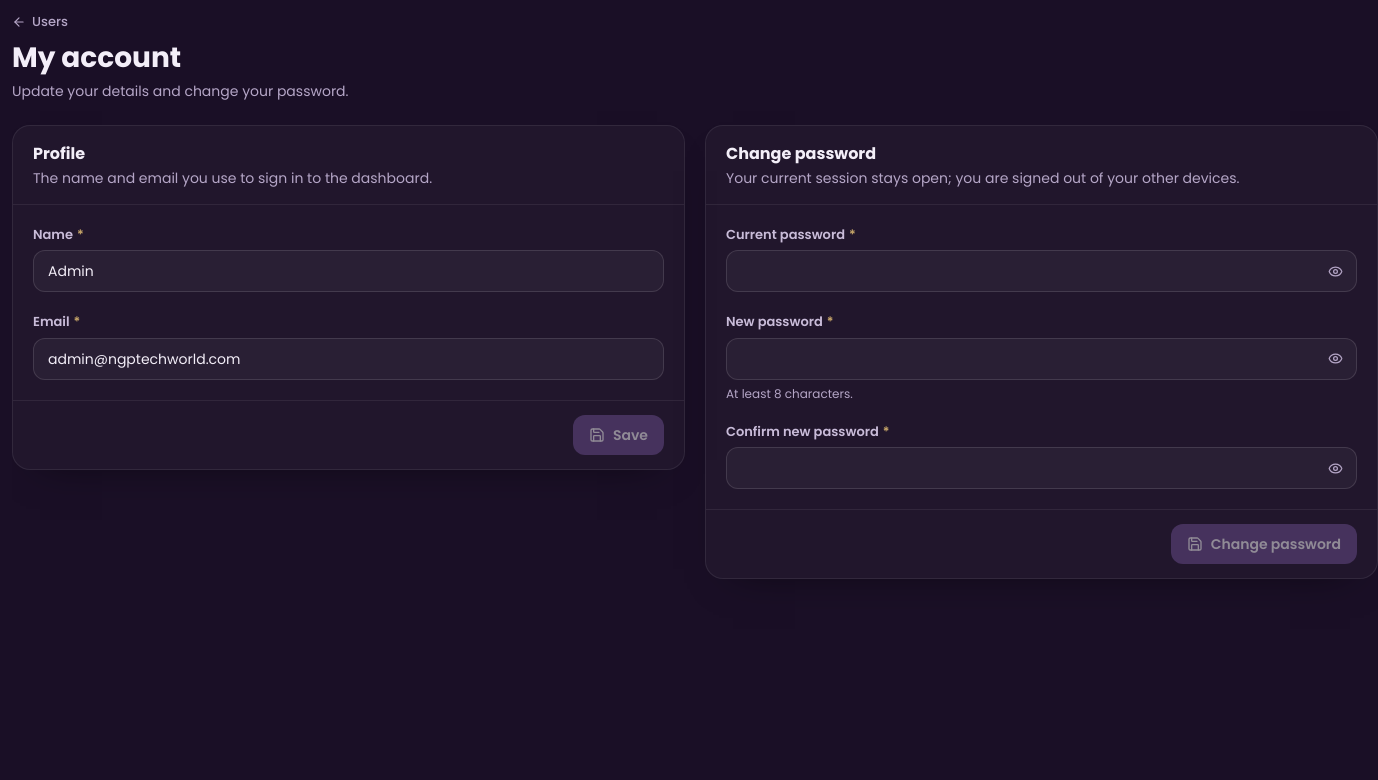
Test: AccountPage — profile › shows your name and email; Save stays disabled until something changes
Expected: the heading "My account" is shown, [12, 38, 181, 77]
Expected: the button "Save" is disabled, [573, 415, 664, 455]
Type "!" into the field labelled "Name *" at (348, 271), box [33, 250, 664, 292]
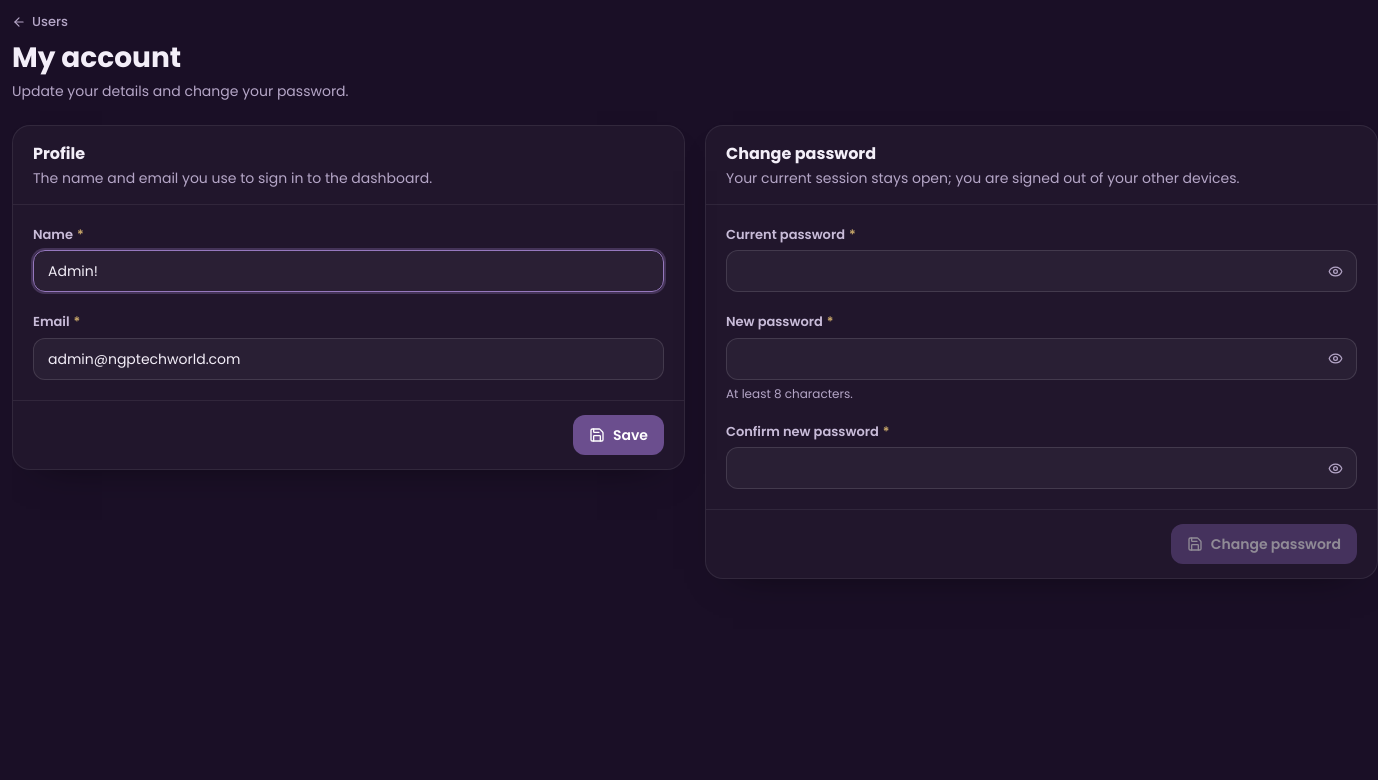
Now the button "Save" is enabled, box [573, 415, 664, 455]
